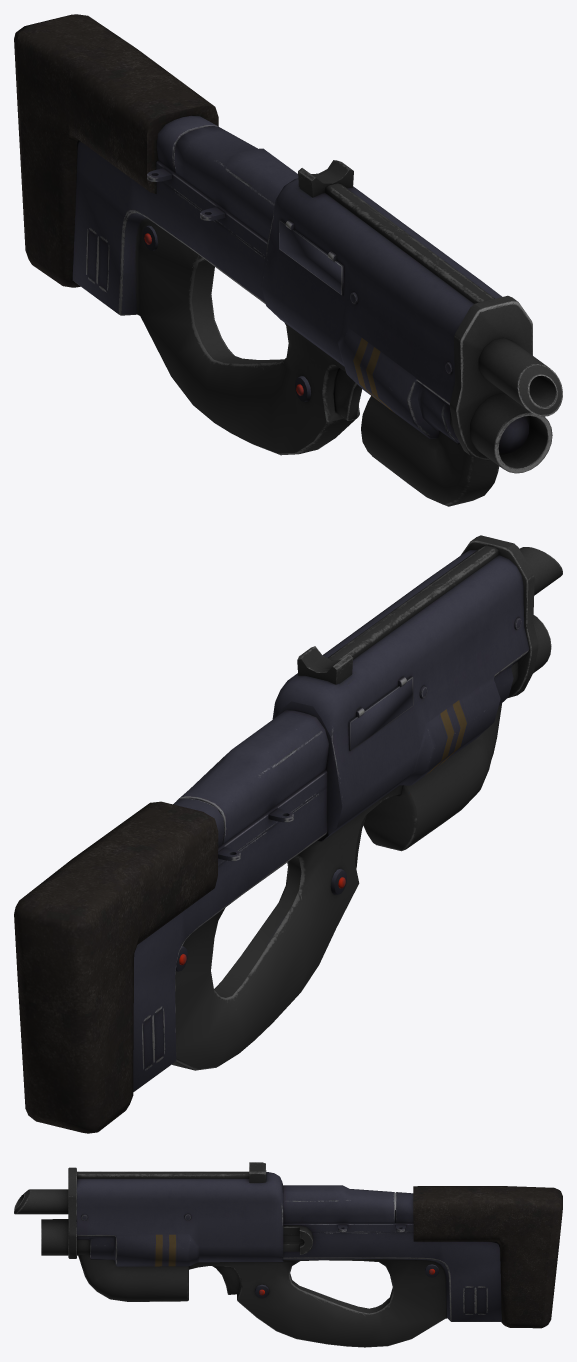
The picture shows the model from 3 angles, top to bottom: view 1: azimuth 30°, elevation 25°; view 2: azimuth 150°, elevation 25°; view 3: azimuth 270°, elevation 25°; orthographic projection. The views are drawn at different scales.
Visible parts, largest first — view 1: detail1_low_Plane_001; view 2: detail1_low_Plane_001; view 3: detail1_low_Plane_001.
Boxes of the visible parts, x1,y1,x2,y2 form: detail1_low_Plane_001: (14,14,562,506); detail1_low_Plane_001: (14,535,562,1133); detail1_low_Plane_001: (14,1162,562,1347).
Size of the model in its own units: 21.99 by 71.5 by 200.
Materials: 1 (1 with a texture image).
